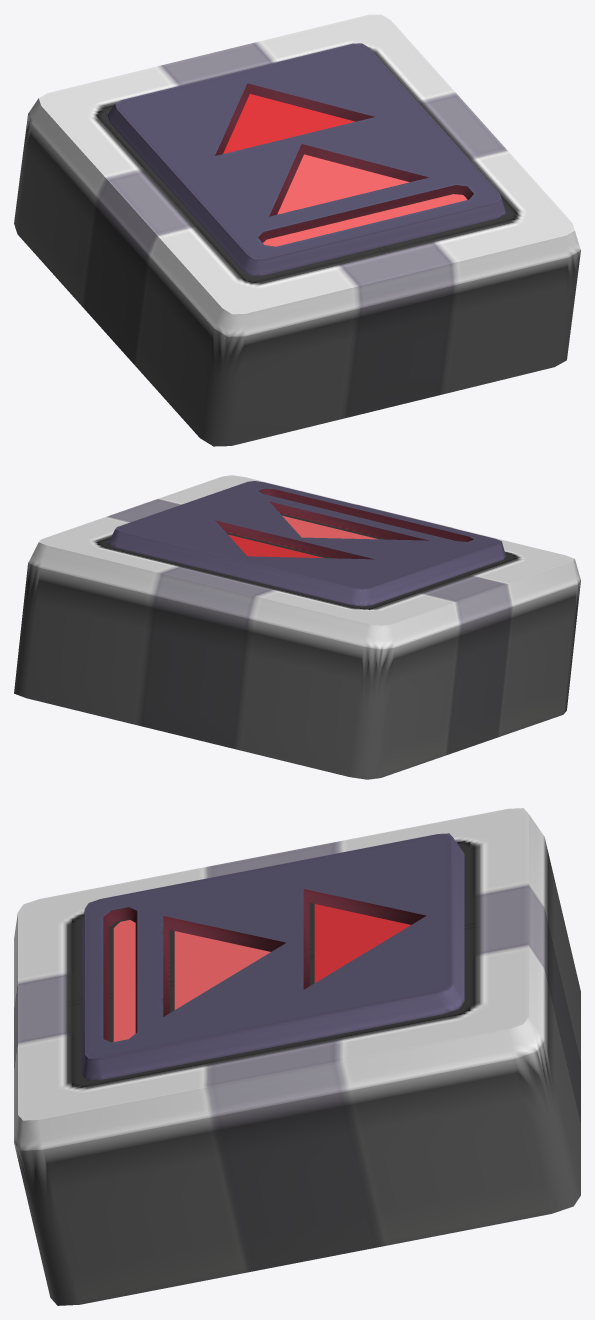
The model's file is G_009_Jumppad.FBX.
The picture shows the model from 3 angles, top to bottom: view 1: azimuth 30°, elevation 25°; view 2: azimuth 150°, elevation 25°; view 3: azimuth 270°, elevation 25°; orthographic projection. The views are drawn at different scales.
Visible parts, largest first — view 1: G_009_Jumppad_01, G_009_Jumppad_02; view 2: G_009_Jumppad_01, G_009_Jumppad_02; view 3: G_009_Jumppad_01, G_009_Jumppad_02.
Boxes of the visible parts, box(x1,y1,x2,y2) form: G_009_Jumppad_01: box(14, 14, 580, 446); G_009_Jumppad_02: box(223, 94, 466, 246); G_009_Jumppad_01: box(14, 475, 580, 779); G_009_Jumppad_02: box(228, 515, 378, 558); G_009_Jumppad_01: box(14, 808, 580, 1305); G_009_Jumppad_02: box(113, 904, 410, 1041).
Bounding box in the file's own units: 200 × 116 × 209.
